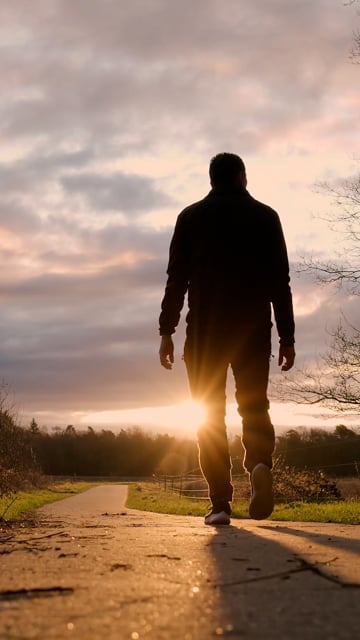Person: (150, 145, 300, 538)
